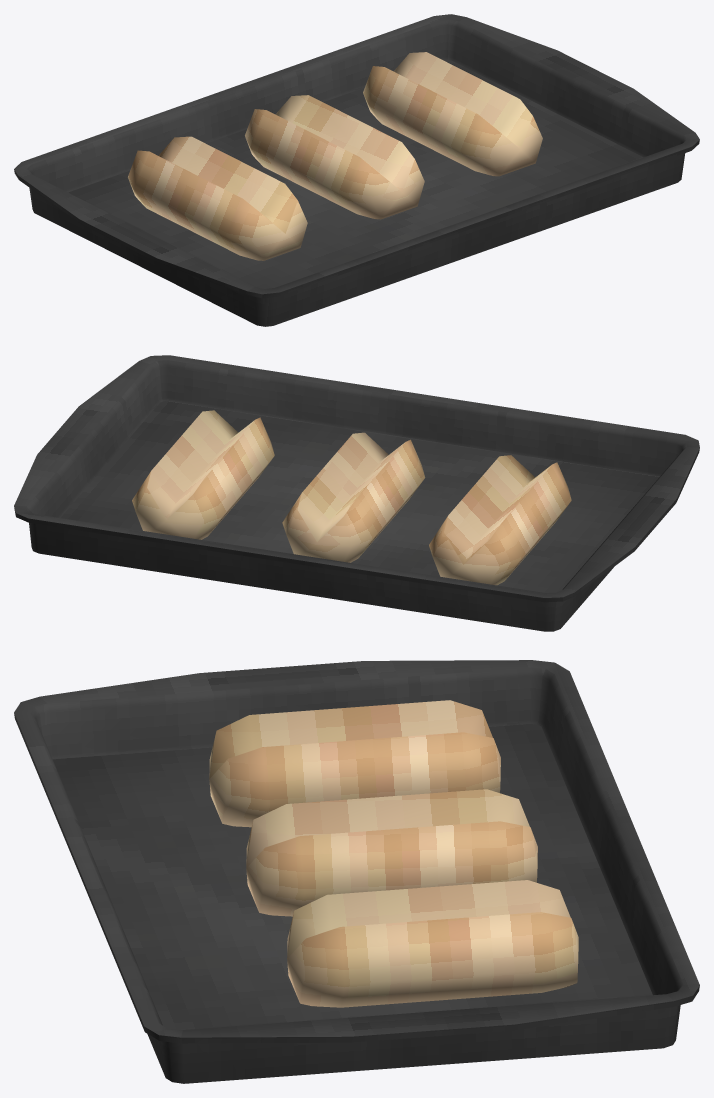
The model's file is BakingTrayHotdog.fbx.
The picture shows the model from 3 angles, top to bottom: view 1: azimuth 30°, elevation 25°; view 2: azimuth 150°, elevation 25°; view 3: azimuth 270°, elevation 25°; orthographic projection. The views are drawn at different scales.
Visible parts, largest first — view 1: HotDog.Tray; view 2: HotDog.Tray; view 3: HotDog.Tray.
Boxes of the visible parts, x1,y1,x2,y2 form: HotDog.Tray: (14, 14, 699, 326); HotDog.Tray: (14, 355, 699, 631); HotDog.Tray: (14, 660, 699, 1083).
Size of the model in its own units: 105 by 11.11 by 80.46.
